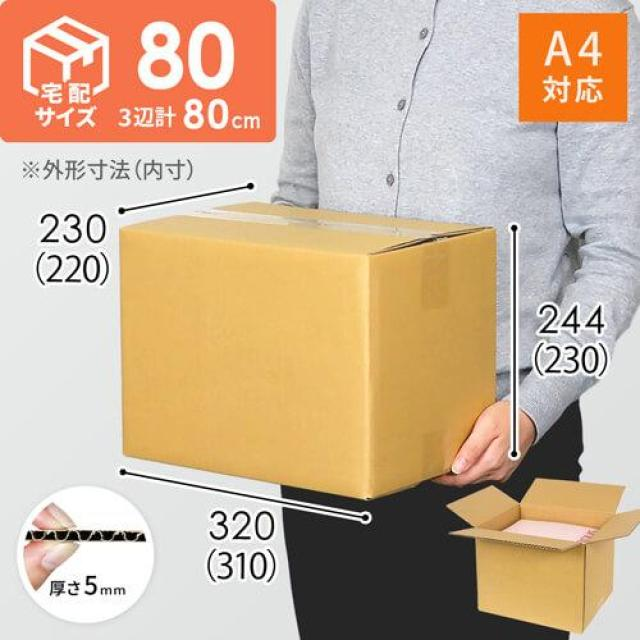box: (107, 197, 506, 502), (448, 479, 627, 627)
